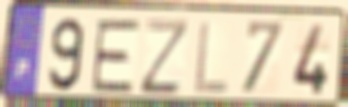4: (291, 22, 330, 97)
7: (240, 19, 286, 98)
9: (48, 16, 86, 94)
E: (89, 17, 143, 95)
L: (192, 19, 231, 97)
Z: (138, 17, 192, 97)
